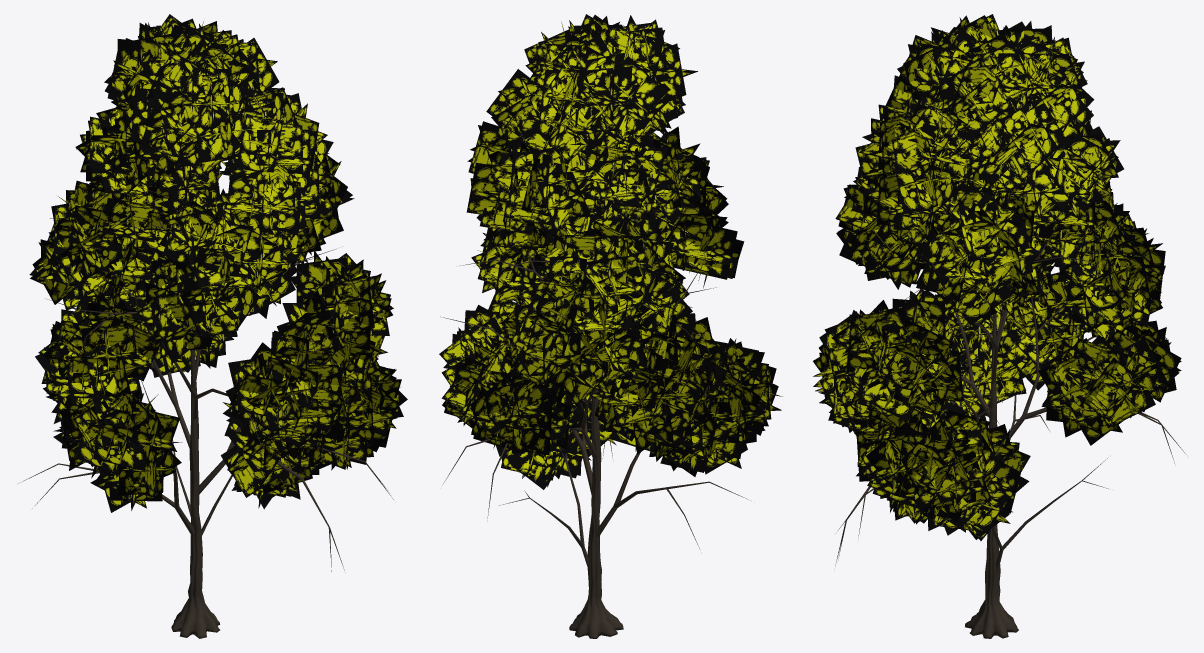
File: Tree7.glb
The picture shows the model from 3 angles, left to right: view 1: azimuth 30°, elevation 25°; view 2: azimuth 150°, elevation 25°; view 3: azimuth 270°, elevation 25°; orthographic projection.
Visible parts, largest first — view 1: Birch_Tree _ Leaves_LOD0, Dead_Tree_8_LOD0; view 2: Birch_Tree _ Leaves_LOD0, Dead_Tree_8_LOD0; view 3: Birch_Tree _ Leaves_LOD0, Dead_Tree_8_LOD0.
Boxes of the visible parts, x1,y1,x2,y2 form: Birch_Tree _ Leaves_LOD0: [29, 14, 407, 512]; Dead_Tree_8_LOD0: [23, 179, 393, 638]; Birch_Tree _ Leaves_LOD0: [439, 14, 782, 489]; Dead_Tree_8_LOD0: [440, 167, 748, 638]; Birch_Tree _ Leaves_LOD0: [813, 14, 1181, 540]; Dead_Tree_8_LOD0: [835, 178, 1185, 638].
Bounding box in the file's own units: 6.49 × 10.87 × 6.21.
2 materials, 2 textured.
